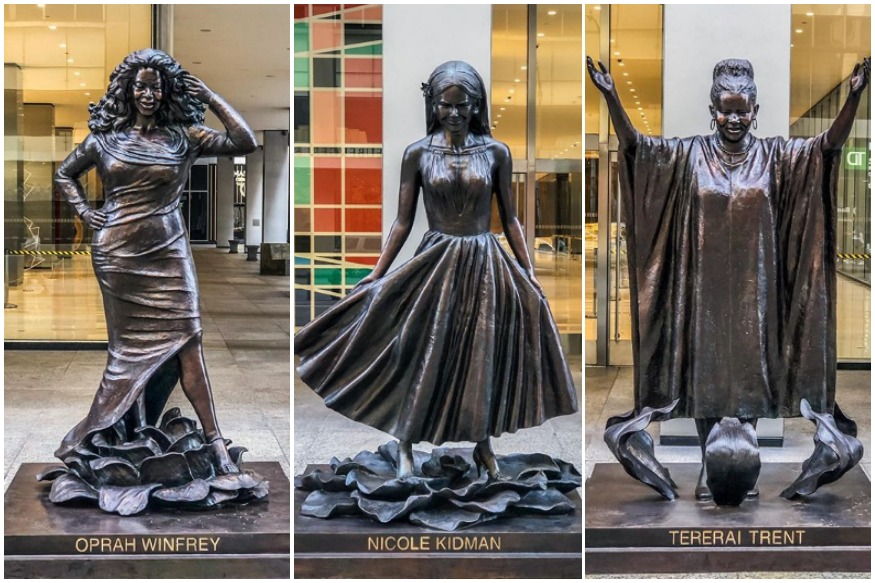person-like: (584, 40, 867, 505), (296, 50, 579, 489), (49, 43, 254, 484)
